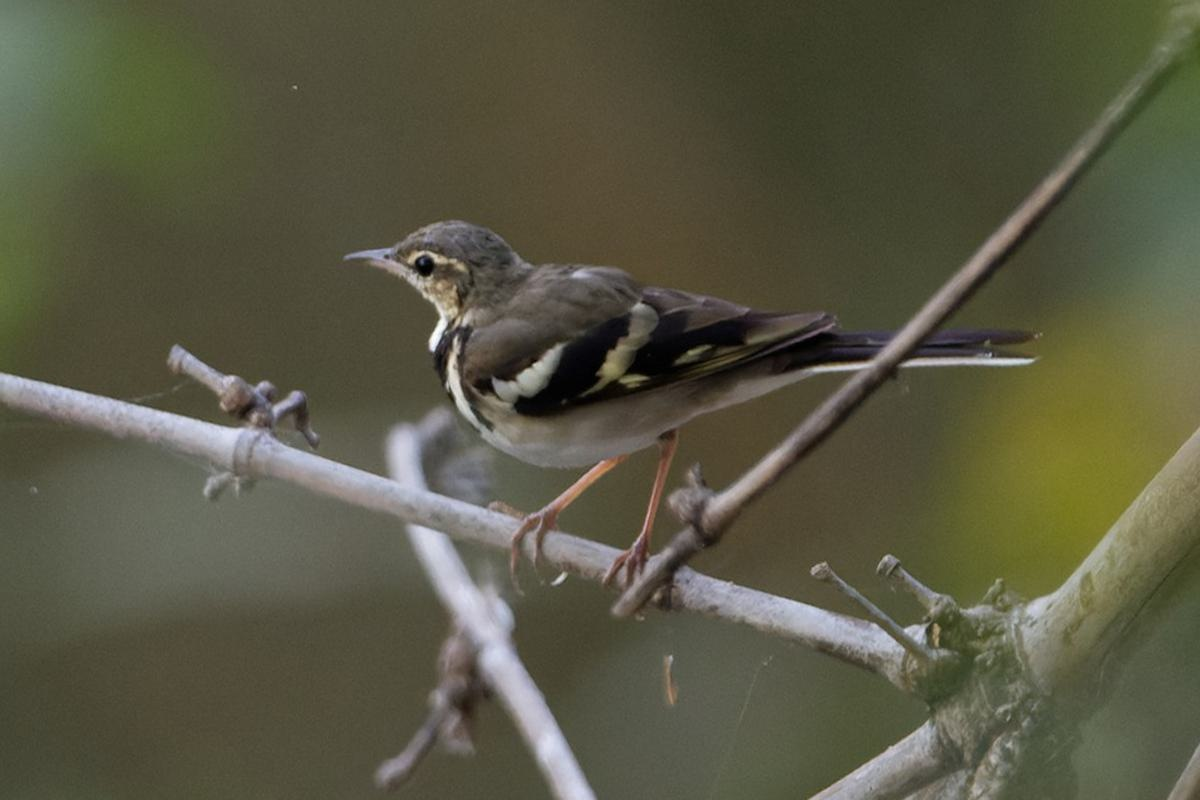wagtail: (334, 161, 1041, 535)
